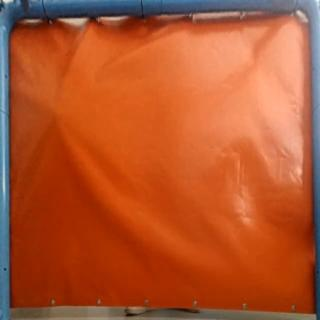Hit-hRxx: (48, 106, 63, 120)
